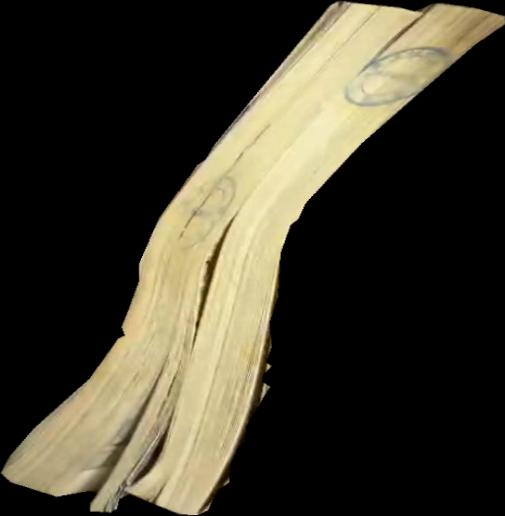backward: (1, 1, 505, 516)
